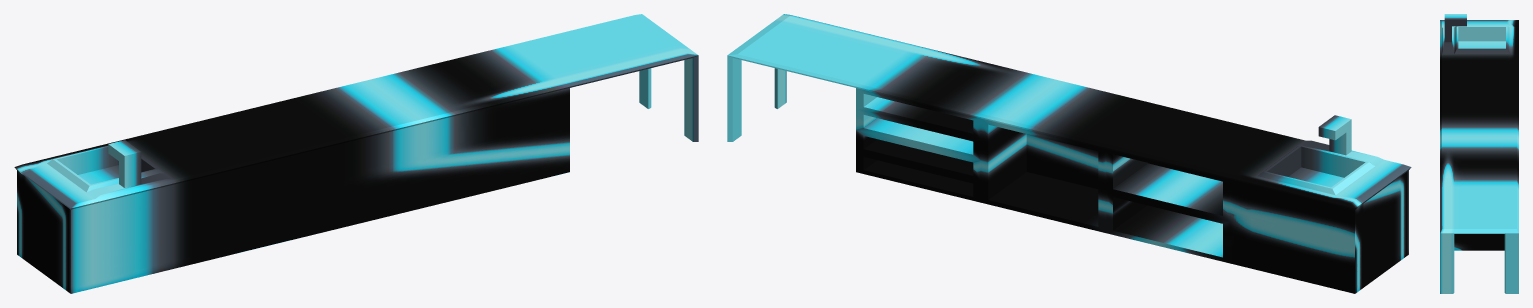
Rendered from linerLabtable.obj.
The picture shows the model from 3 angles, left to right: view 1: azimuth 30°, elevation 25°; view 2: azimuth 150°, elevation 25°; view 3: azimuth 270°, elevation 25°; orthographic projection. The views are drawn at different scales.
Parts seen in each view (by area): view 1: pCube1; view 2: pCube1; view 3: pCube1.
Boxes of the visible parts, x1,y1,x2,y2 form: pCube1: (14, 14, 698, 293); pCube1: (727, 14, 1411, 293); pCube1: (1440, 14, 1518, 293).
Bounding box in the file's own units: 6.74 × 1.26 × 1.05.
